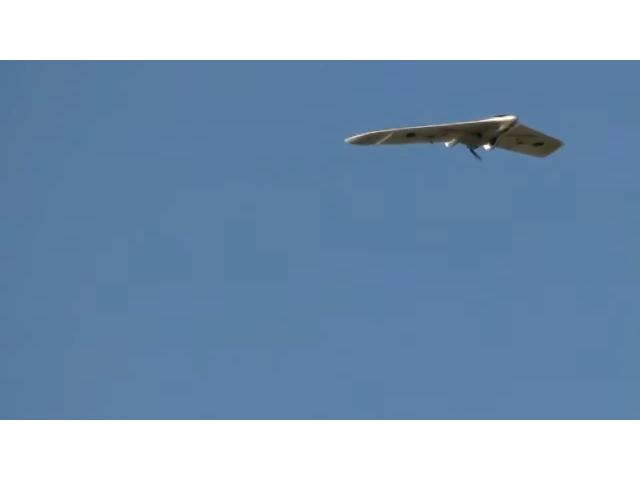Anti-Drone: (344, 116, 564, 160)
